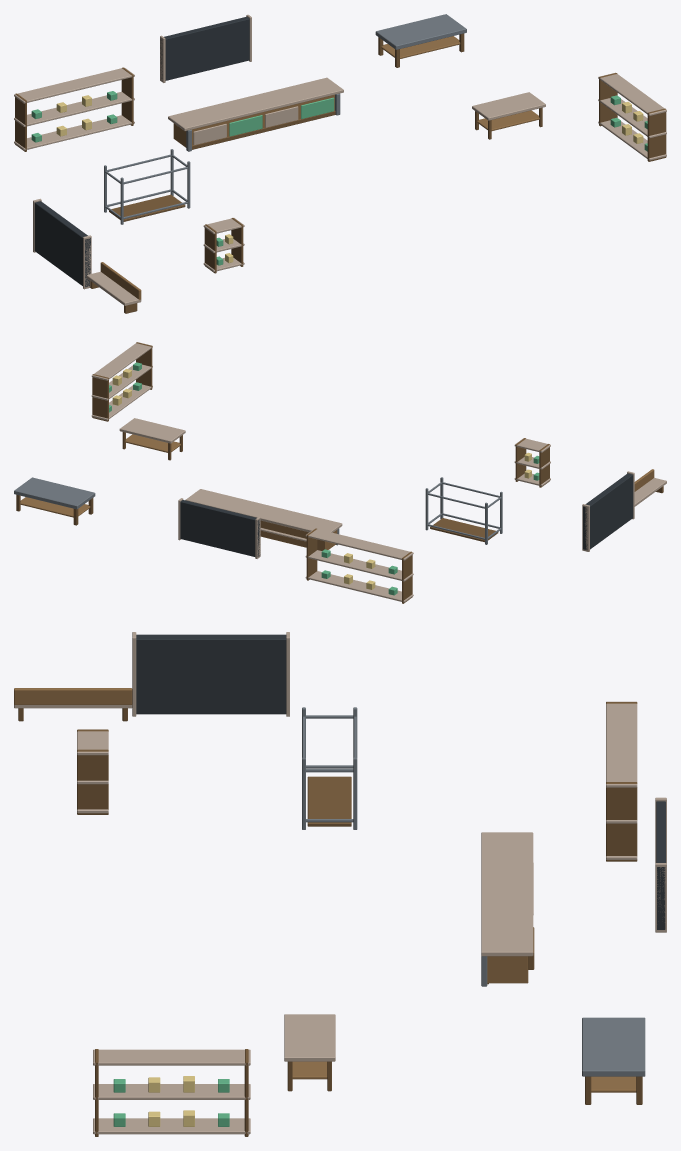
The model's file is stampspur_courier_office.lod1.glb.
3 views of the same model, one above another, from view 1: azimuth 30°, elevation 25°; view 2: azimuth 150°, elevation 25°; view 3: azimuth 270°, elevation 25° (orthographic). The views are drawn at different scales.
Bounding box in the file's own units: 25.67 × 2.82 × 16.55.
